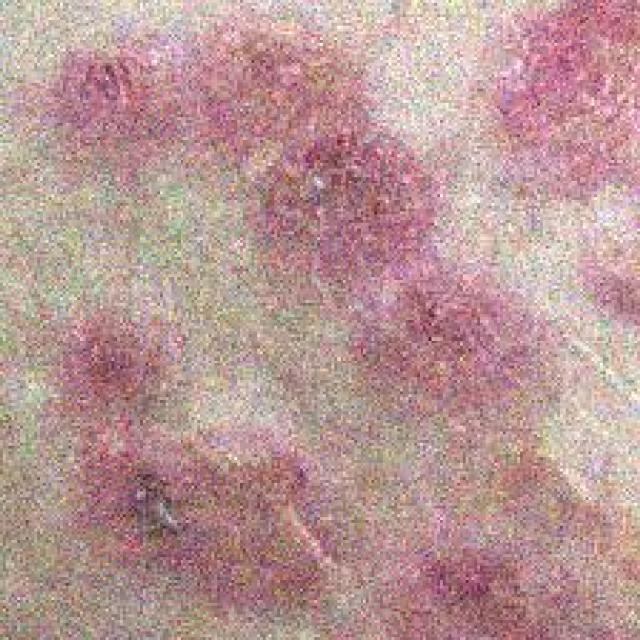monkeypox: (31, 11, 640, 640)
